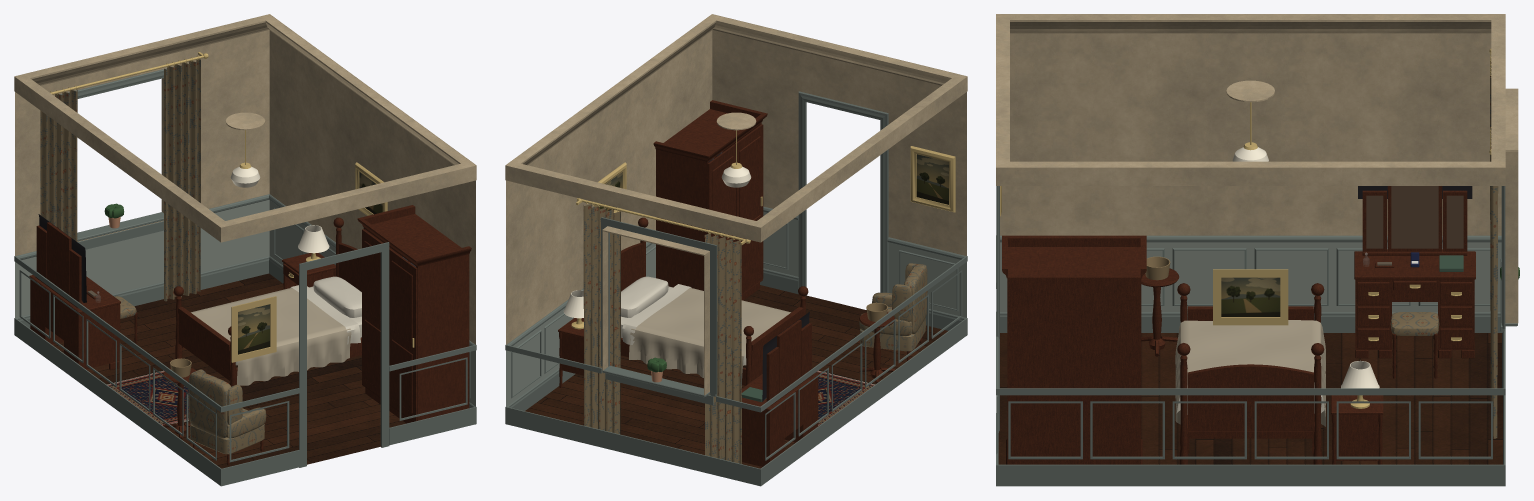
Rendered from room_con_room.gltf.
The picture shows the model from 3 angles, left to right: view 1: azimuth 30°, elevation 25°; view 2: azimuth 150°, elevation 25°; view 3: azimuth 270°, elevation 25°; orthographic projection. The views are drawn at different scales.
Visible parts, largest first — view 1: 女主人的卧室·墙面、地面与线脚, 女主人的卧室·衣柜（底层叠着毛衣 hs_con_sweater）-col, 女主人的卧室·单人床-col, 女主人的卧室·梳妆台（镜子盖着黑纱）-col, 女主人的卧室·扶手椅-col, 女主人的卧室·衣柜右门, 女主人的卧室·南墙的画, 女主人的卧室·地毯, 女主人的卧室·床头柜-col, 女主人的卧室·床头台灯, 女主人的卧室·床头上方的画, 女主人的卧室·吊灯 (+1 smaller); view 2: 女主人的卧室·墙面、地面与线脚, 女主人的卧室·单人床-col, 女主人的卧室·衣柜（底层叠着毛衣 hs_con_sweater）-col, 女主人的卧室·梳妆台（镜子盖着黑纱）-col, 女主人的卧室·扶手椅-col, 女主人的卧室·衣柜右门, 女主人的卧室·南墙的画, 女主人的卧室·地毯, 女主人的卧室·床头柜-col, 女主人的卧室·小圆桌, 女主人的卧室·吊灯, 女主人的卧室·床头台灯 (+1 smaller); view 3: 女主人的卧室·墙面、地面与线脚, 女主人的卧室·衣柜（底层叠着毛衣 hs_con_sweater）-col, 女主人的卧室·单人床-col, 女主人的卧室·梳妆台（镜子盖着黑纱）-col, 女主人的卧室·床头上方的画, 女主人的卧室·床头柜-col, 女主人的卧室·梳妆凳, 女主人的卧室·小圆桌, 女主人的卧室·床头台灯, 女主人的卧室·梳妆台上的账簿与空戒指盒（hs_con_ledger、hs_con_ringbox）, 女主人的卧室·吊灯.
Part boxes in pixels (left/top/right/bottom): 女主人的卧室·墙面、地面与线脚: left=14, top=14, right=476, bottom=486; 女主人的卧室·衣柜（底层叠着毛衣 hs_con_sweater）-col: left=357, top=205, right=471, bottom=423; 女主人的卧室·单人床-col: left=173, top=217, right=361, bottom=386; 女主人的卧室·梳妆台（镜子盖着黑纱）-col: left=29, top=214, right=120, bottom=370; 女主人的卧室·扶手椅-col: left=188, top=369, right=266, bottom=465; 女主人的卧室·衣柜右门: left=389, top=249, right=417, bottom=421; 女主人的卧室·南墙的画: left=231, top=296, right=276, bottom=362; 女主人的卧室·地毯: left=107, top=370, right=188, bottom=425; 女主人的卧室·床头柜-col: left=282, top=253, right=335, bottom=289; 女主人的卧室·床头台灯: left=298, top=225, right=329, bottom=261; 女主人的卧室·床头上方的画: left=355, top=162, right=387, bottom=215; 女主人的卧室·吊灯: left=230, top=130, right=260, bottom=187; 女主人的卧室·墙面、地面与线脚: left=505, top=14, right=967, bottom=486; 女主人的卧室·单人床-col: left=621, top=217, right=808, bottom=387; 女主人的卧室·衣柜（底层叠着毛衣 hs_con_sweater）-col: left=653, top=100, right=767, bottom=300; 女主人的卧室·梳妆台（镜子盖着黑纱）-col: left=741, top=312, right=818, bottom=467; 女主人的卧室·扶手椅-col: left=859, top=263, right=927, bottom=360; 女主人的卧室·衣柜右门: left=735, top=124, right=763, bottom=293; 女主人的卧室·南墙的画: left=910, top=146, right=955, bottom=212; 女主人的卧室·地毯: left=816, top=370, right=874, bottom=425; 女主人的卧室·床头柜-col: left=558, top=318, right=583, bottom=387; 女主人的卧室·小圆桌: left=859, top=312, right=894, bottom=383; 女主人的卧室·吊灯: left=721, top=130, right=751, bottom=187; 女主人的卧室·床头台灯: left=563, top=290, right=583, bottom=329; 女主人的卧室·墙面、地面与线脚: left=996, top=14, right=1518, bottom=486; 女主人的卧室·衣柜（底层叠着毛衣 hs_con_sweater）-col: left=1002, top=235, right=1146, bottom=464; 女主人的卧室·单人床-col: left=1175, top=283, right=1325, bottom=464; 女主人的卧室·梳妆台（镜子盖着黑纱）-col: left=1354, top=186, right=1475, bottom=358; 女主人的卧室·床头上方的画: left=1213, top=269, right=1288, bottom=325; 女主人的卧室·床头柜-col: left=1331, top=395, right=1383, bottom=464; 女主人的卧室·梳妆凳: left=1390, top=312, right=1439, bottom=378; 女主人的卧室·小圆桌: left=1141, top=268, right=1179, bottom=356; 女主人的卧室·床头台灯: left=1341, top=360, right=1379, bottom=408; 女主人的卧室·梳妆台上的账簿与空戒指盒（hs_con_ledger、hs_con_ringbox）: left=1363, top=252, right=1463, bottom=271; 女主人的卧室·吊灯: left=1232, top=102, right=1268, bottom=161.
Bounding box in the file's own units: 2.99 × 2.9 × 4.31.
Materials: 32 (10 with a texture image).
